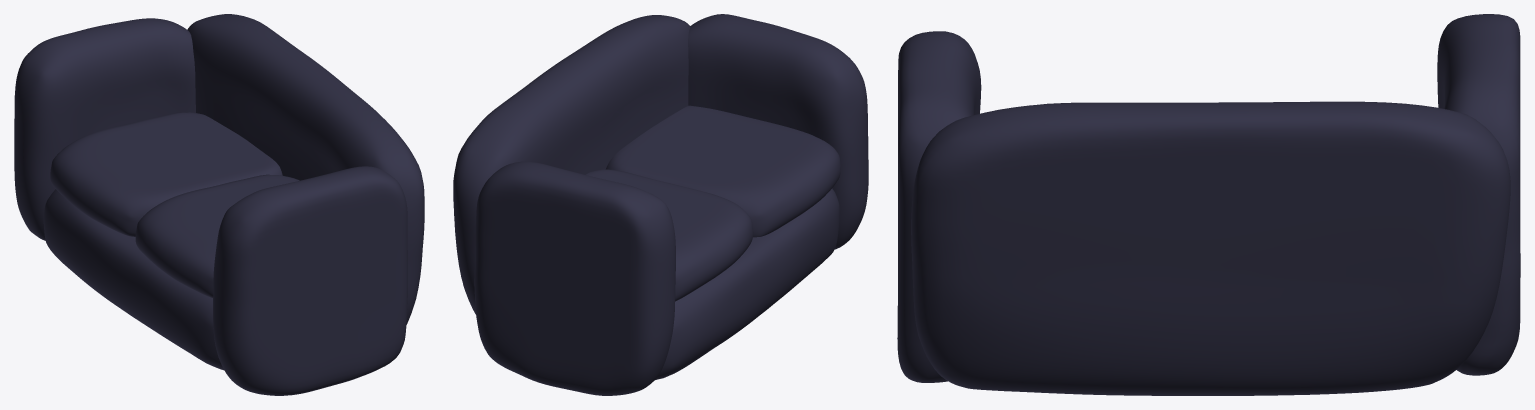
The model's file is Couch.fbx.
The picture shows the model from 3 angles, left to right: view 1: azimuth 30°, elevation 25°; view 2: azimuth 150°, elevation 25°; view 3: azimuth 270°, elevation 25°; orthographic projection. The views are drawn at different scales.
Parts seen in each view (by area): view 1: Sphere.008, Sphere.009, Sphere.006, Sphere.004, Sphere.007, Sphere.005; view 2: Sphere.006, Sphere.009, Sphere.008, Sphere.005, Sphere.007, Sphere.004; view 3: Sphere.009, Sphere.006, Sphere.008.
Boxes of the visible parts, <box> form: Sphere.008: <box>213,166,407,395</box>; Sphere.009: <box>187,14,424,324</box>; Sphere.006: <box>14,18,195,240</box>; Sphere.004: <box>50,112,282,236</box>; Sphere.007: <box>43,189,223,370</box>; Sphere.005: <box>135,174,299,297</box>; Sphere.006: <box>474,161,675,395</box>; Sphere.009: <box>453,15,690,314</box>; Sphere.008: <box>688,14,868,249</box>; Sphere.005: <box>606,105,840,237</box>; Sphere.007: <box>655,188,839,379</box>; Sphere.004: <box>586,169,753,301</box>; Sphere.009: <box>911,101,1510,395</box>; Sphere.006: <box>1437,14,1520,375</box>; Sphere.008: <box>897,31,981,382</box>.
Size of the model in its own units: 287 by 278 by 511.
